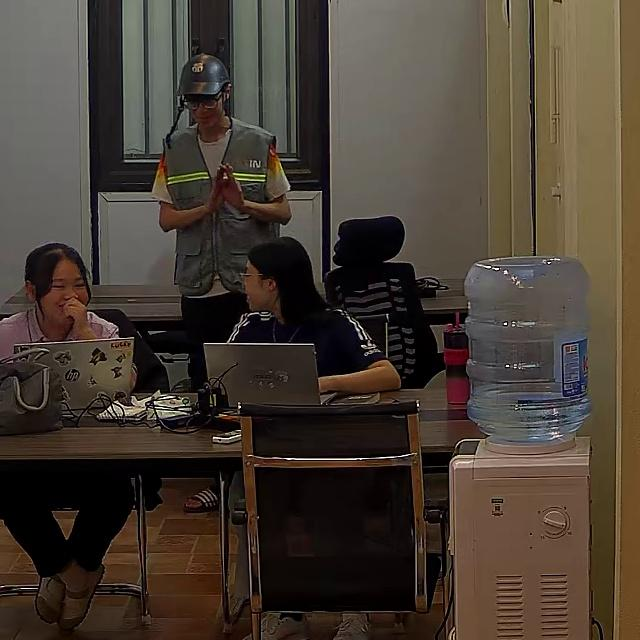helmet: (176, 53, 232, 98)
no_helmet: (240, 237, 319, 301), (23, 243, 90, 303)
none: (224, 304, 387, 384), (0, 308, 120, 371)
vest: (152, 117, 287, 290)
